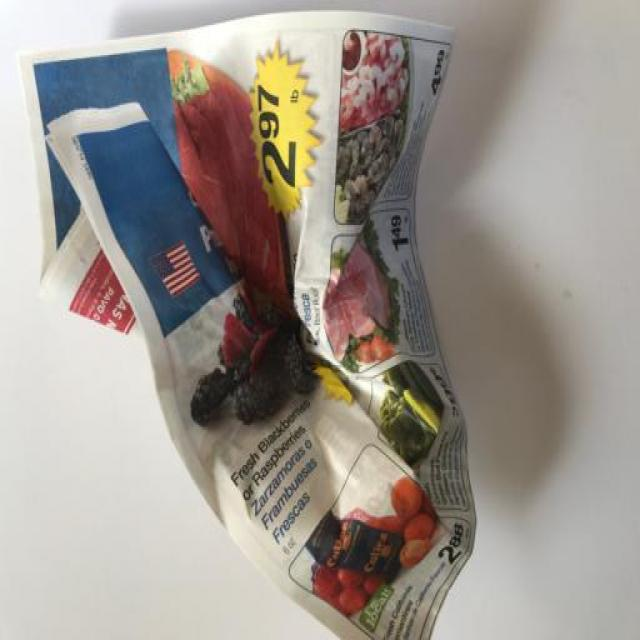paper: (3, 1, 482, 640)
